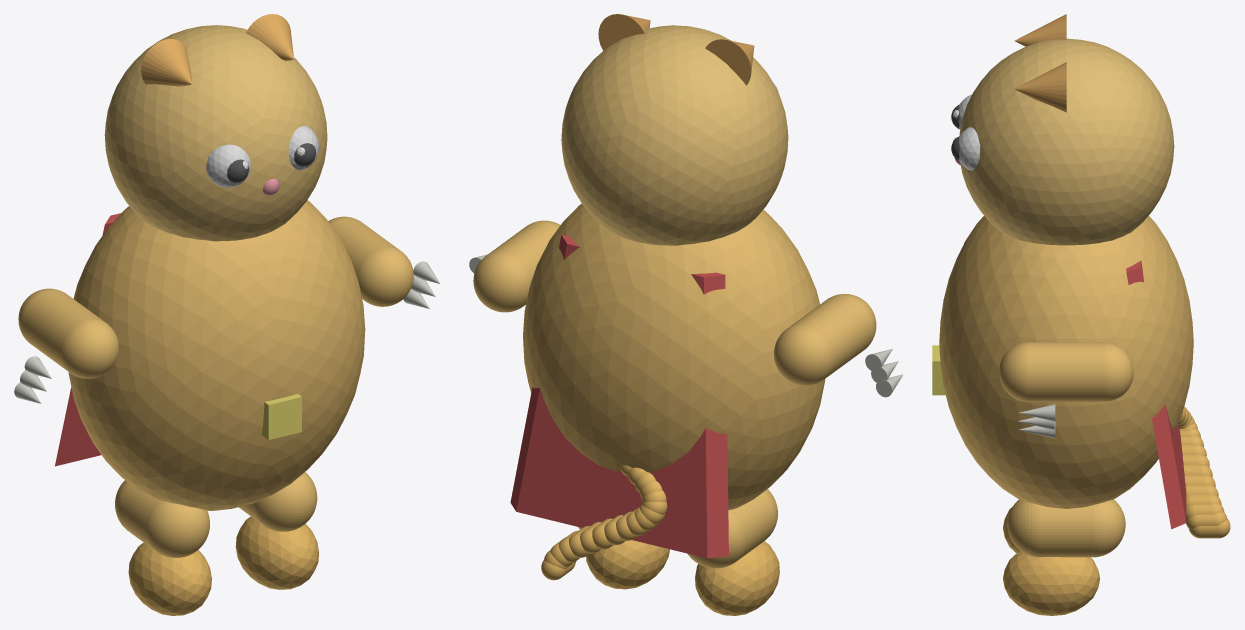
The model's file is g_original.glb.
The picture shows the model from 3 angles, left to right: view 1: azimuth 30°, elevation 25°; view 2: azimuth 150°, elevation 25°; view 3: azimuth 270°, elevation 25°; orthographic projection. The views are drawn at different scales.
Parts seen in each view (by area): view 1: world; view 2: world; view 3: world.
Part boxes in pixels (x1,y1,x2,y2): world: (14,14,440,615); world: (469,14,903,615); world: (932,14,1230,615).
Size of the model in its own units: 3.1 by 4.03 by 1.99.
